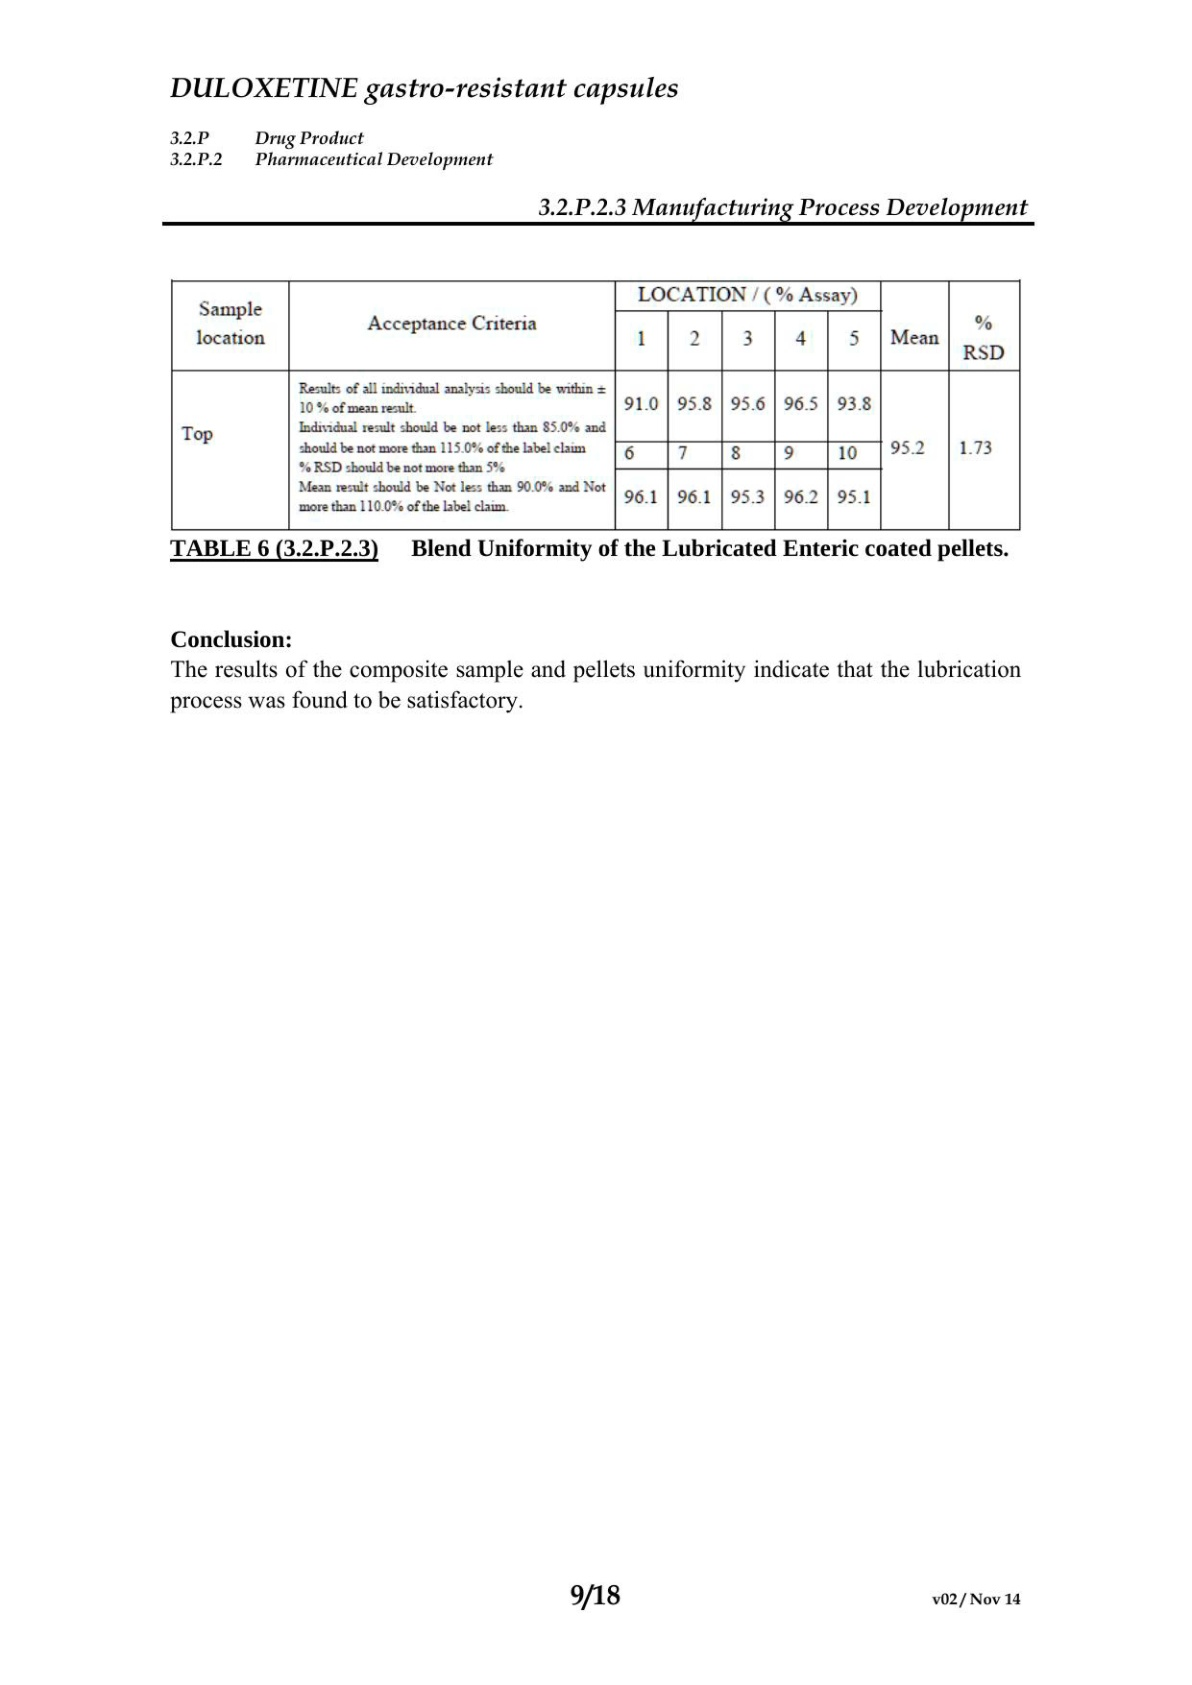merged_cells: (169, 277, 1020, 532)
